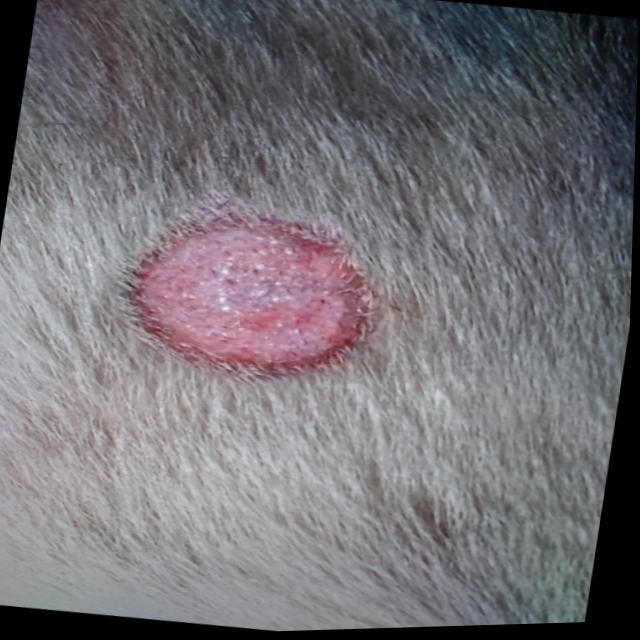ringworm: (98, 182, 411, 403)
